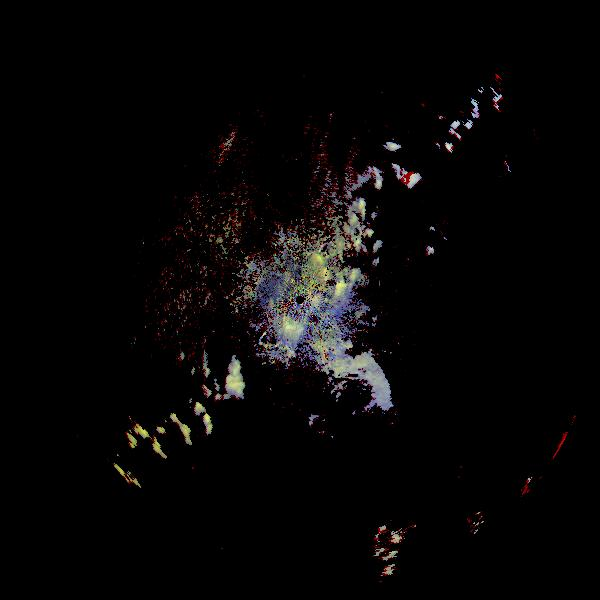roost: (234, 316, 420, 502)
